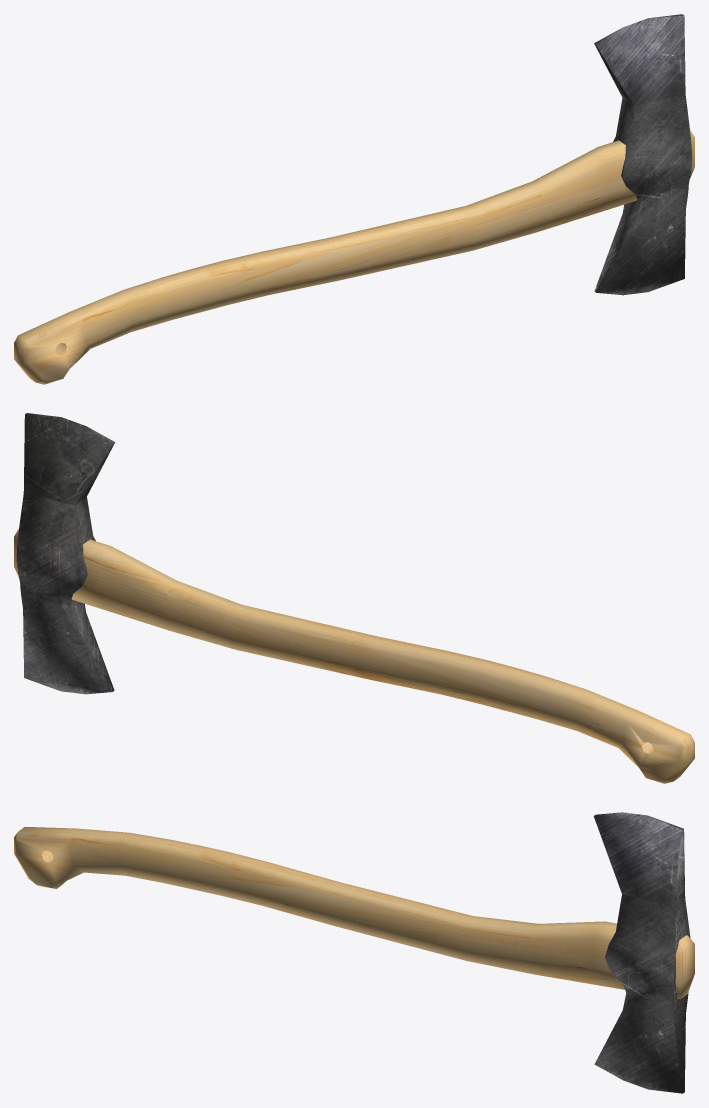
Rendered from Axe.fbx.
The picture shows the model from 3 angles, top to bottom: view 1: azimuth 30°, elevation 25°; view 2: azimuth 150°, elevation 25°; view 3: azimuth 330°, elevation 25°; orthographic projection.
Visible parts, largest first — view 1: axe_handle, axe_blade; view 2: axe_handle, axe_blade; view 3: axe_handle, axe_blade.
Boxes of the visible parts, x1,y1,x2,y2 form: axe_handle: (14, 130, 694, 384); axe_blade: (594, 14, 692, 295); axe_handle: (14, 529, 694, 783); axe_blade: (16, 413, 115, 694); axe_handle: (14, 827, 694, 999); axe_blade: (593, 812, 690, 1093).
Size of the model in its own units: 2.99 by 1.17 by 0.142.
Materials: 2 (2 with a texture image).
